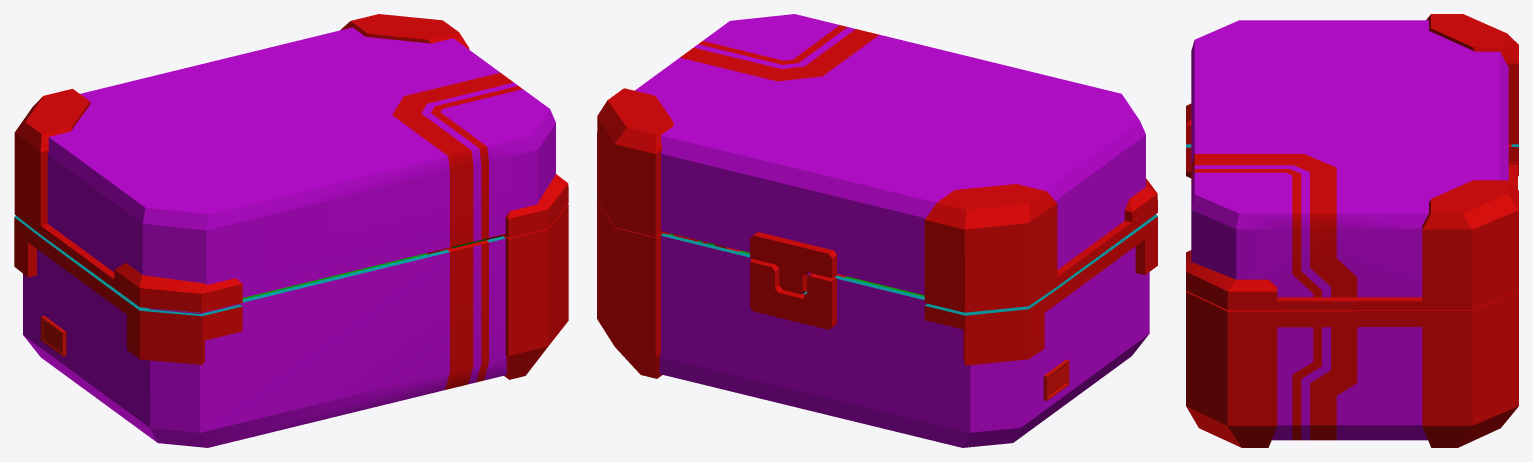
File: SM0081_Lobby_CrateClosed_01.fbx
3 renders of one model, left to right at view 1: azimuth 30°, elevation 25°; view 2: azimuth 150°, elevation 25°; view 3: azimuth 270°, elevation 25°, orthographic. The views are drawn at different scales.
Visible parts, largest first — view 1: SM0081_Lobby_CrateClosed_01; view 2: SM0081_Lobby_CrateClosed_01; view 3: SM0081_Lobby_CrateClosed_01.
Boxes of the visible parts, x1=… form: SM0081_Lobby_CrateClosed_01: x1=14, y1=14, x2=568, y2=447; SM0081_Lobby_CrateClosed_01: x1=597, y1=14, x2=1157, y2=447; SM0081_Lobby_CrateClosed_01: x1=1186, y1=14, x2=1518, y2=447.
Bounding box in the file's own units: 397 × 273 × 216.
